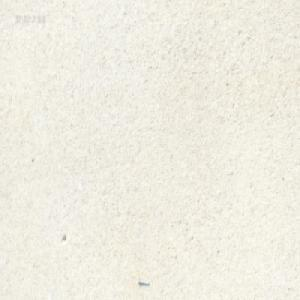Nail: (138, 277, 149, 286)
